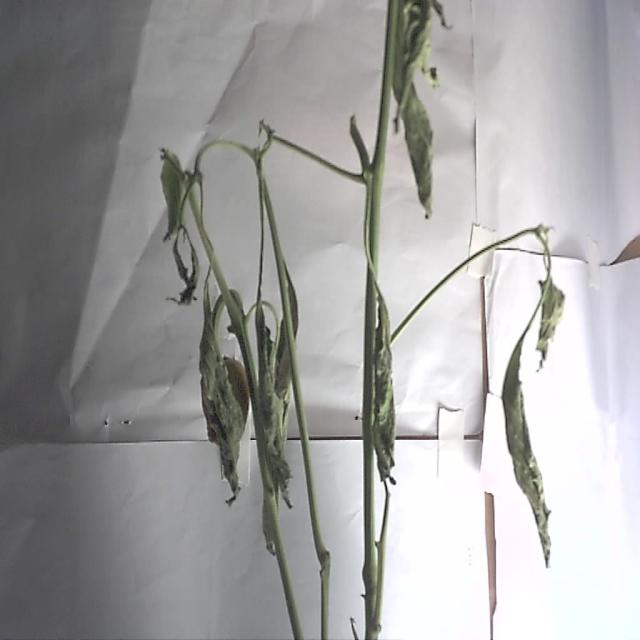Leaf: (499, 288, 553, 568), (196, 276, 250, 504), (250, 294, 295, 512), (157, 148, 202, 305), (396, 76, 434, 220), (369, 310, 396, 482), (534, 266, 566, 368)
